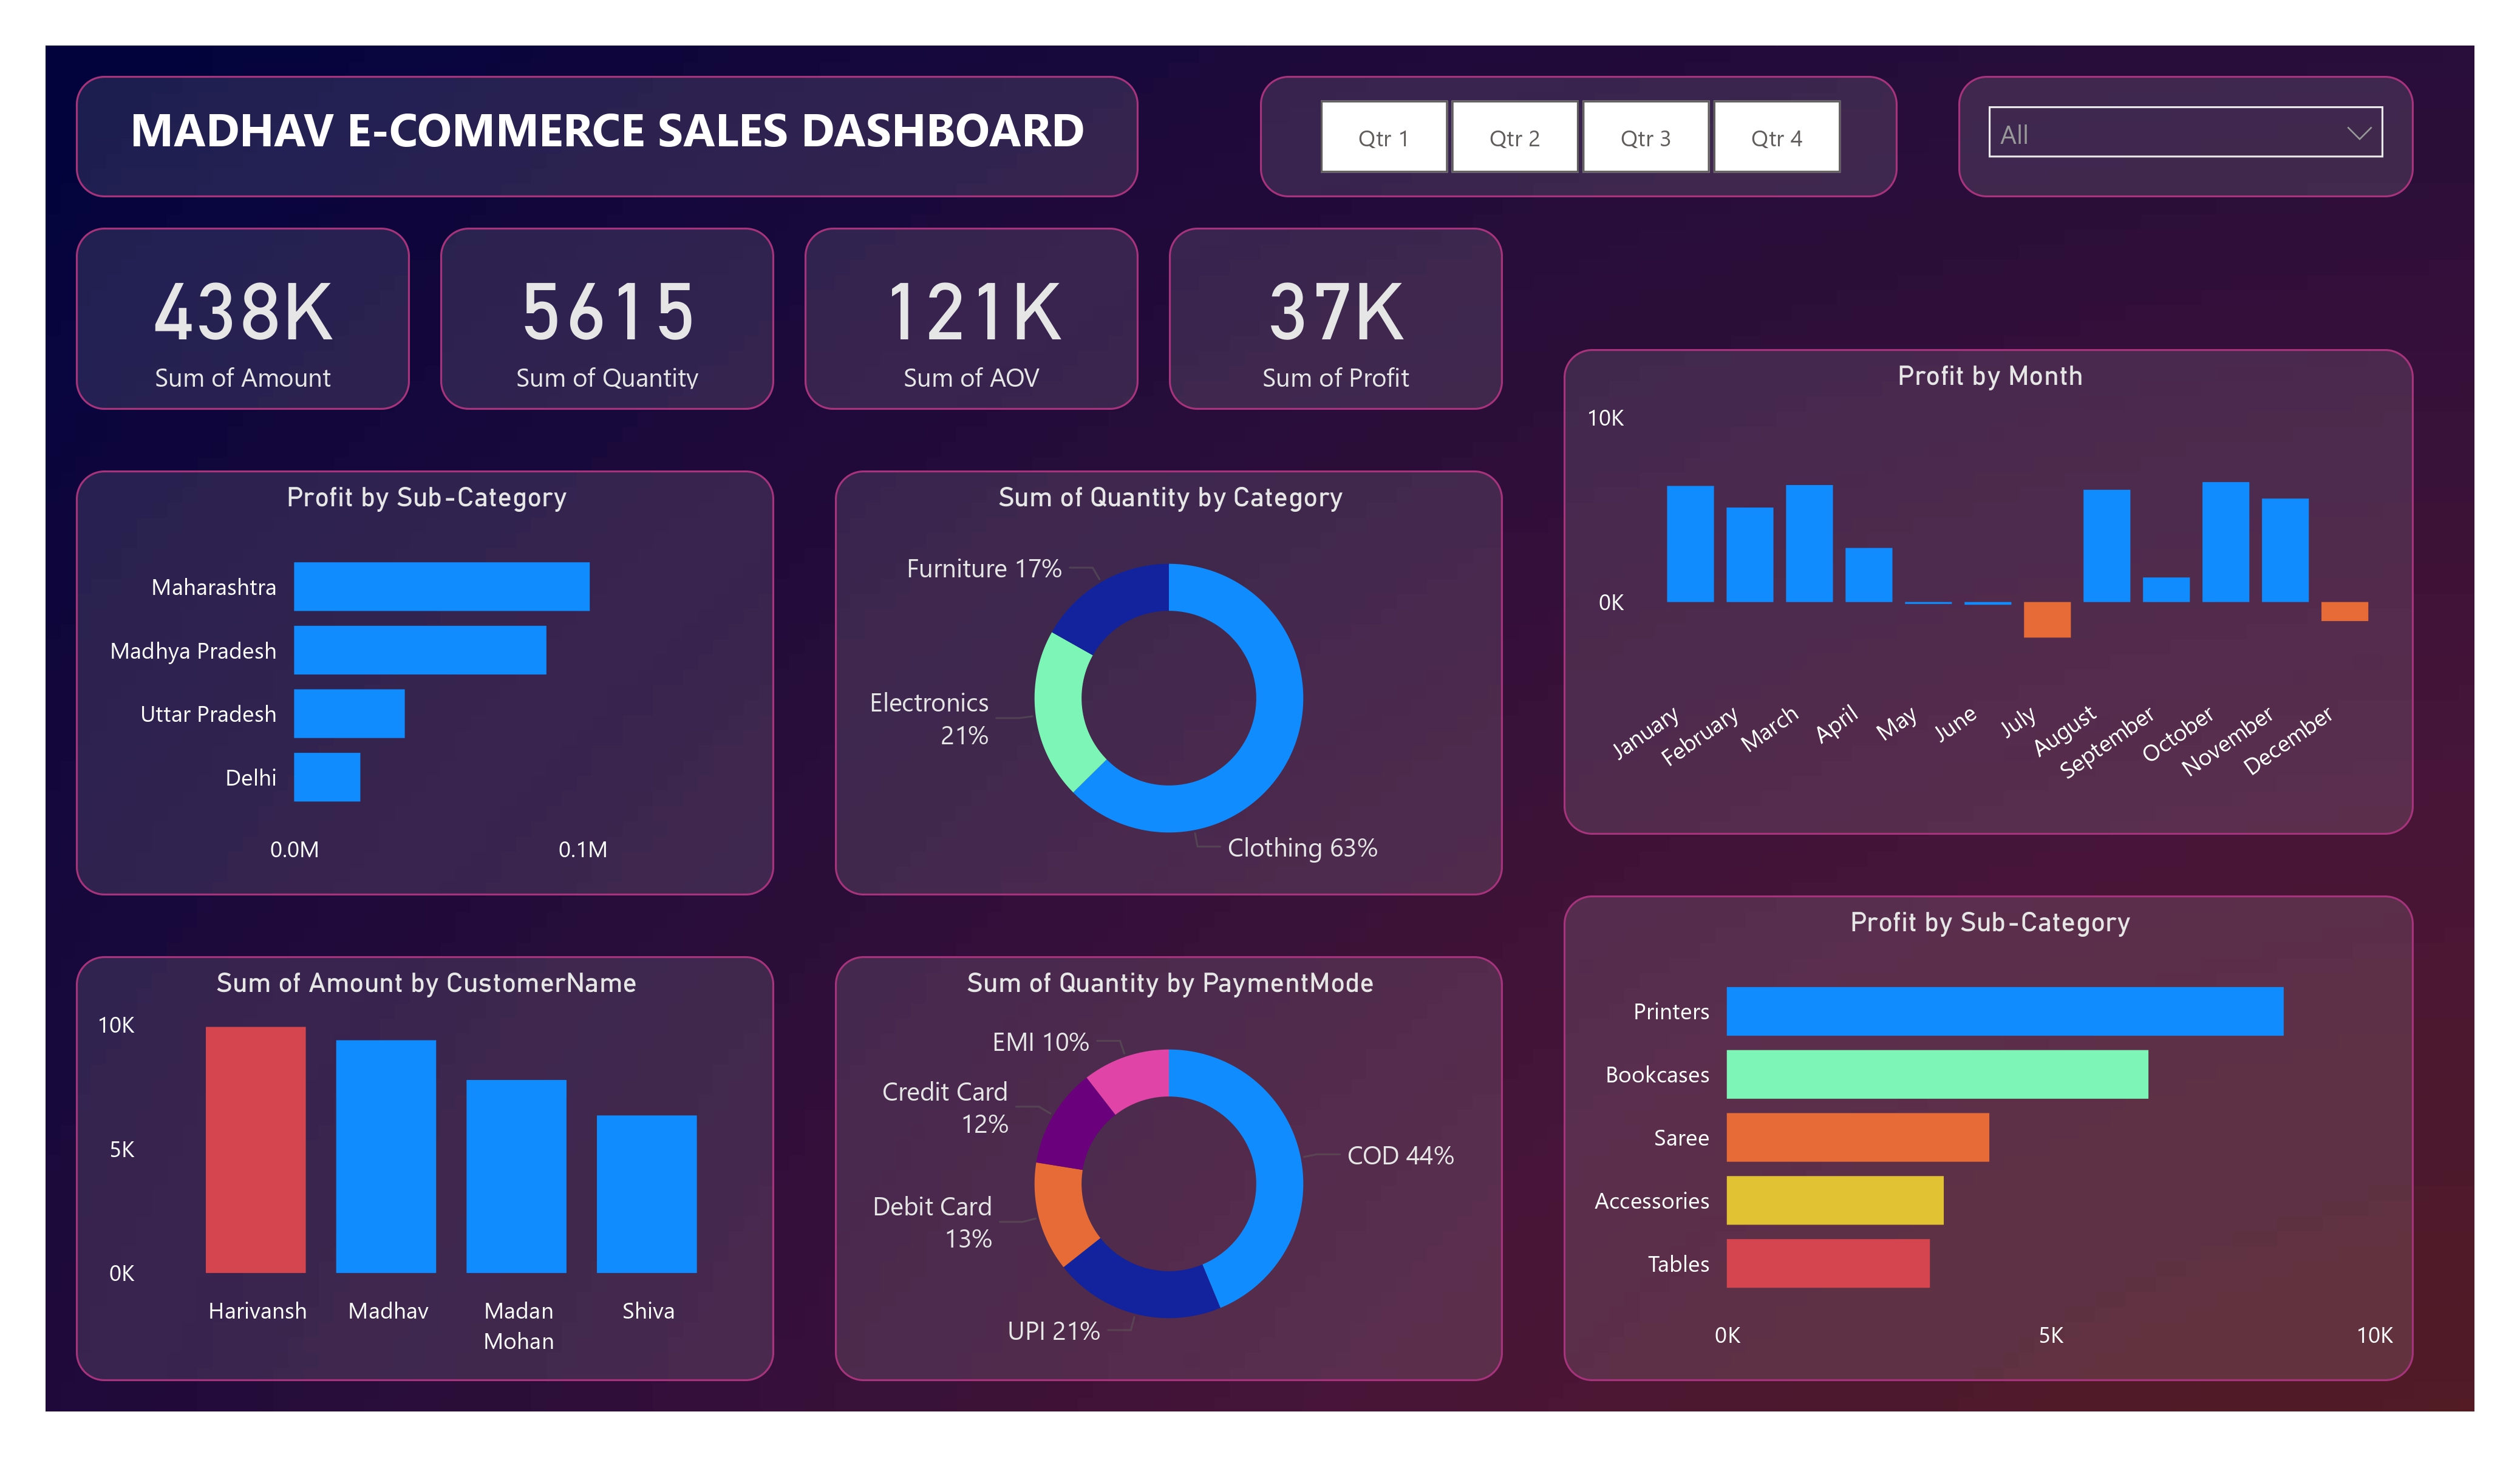

The page's visual inventory and layout, read from the dashboard file:
{"tool":"powerbi","page":{"name":"Page 1","canvas":[1280,720],"ordinal":0},"visuals":[{"type":"textbox","box":[16,16,560,64],"z":0},{"type":"columnChart","title":" Profit by Month","fields":{"Category":["Orders.Order Date.Variation.Date Hierarchy.Month"],"Y":["Details.Profit"]},"box":[800,160,448,256],"z":1000},{"type":"barChart","title":" Profit by Sub-Category","fields":{"Category":["Details.Sub-Category"],"Y":["Details.Profit"]},"box":[800,448,448,256],"z":2000},{"type":"donutChart","fields":{"Category":["Details.Category"],"Y":["Details.Quantity"]},"box":[416,224,352,224],"z":3000},{"type":"donutChart","fields":{"Y":["Details.Quantity"],"Category":["Details.PaymentMode"]},"box":[416,480,352,224],"z":4000},{"type":"card","fields":{"Values":["Details.Amount"]},"box":[16,96,176,96],"z":5000},{"type":"card","fields":{"Values":["Details.Profit"]},"box":[592,96,176,96],"z":6000},{"type":"card","fields":{"Values":["Details.AOV"]},"box":[400,96,176,96],"z":7000},{"type":"card","fields":{"Values":["Details.Quantity"]},"box":[208,96,176,96],"z":8000},{"type":"barChart","title":" Profit by Sub-Category","fields":{"Category":["Orders.State"],"Y":["Details.Amount"]},"box":[16,224,368,224],"z":9000},{"type":"columnChart","fields":{"Category":["Orders.CustomerName"],"Y":["Details.Amount"]},"box":[16,480,368,224],"z":10000},{"type":"slicer","fields":{"Values":["Orders.Order Date.Variation.Date Hierarchy.Quarter"]},"box":[640,16,336,64],"z":11000},{"type":"slicer","fields":{"Values":["Orders.State"]},"box":[1008,16,240,64],"z":12000}]}

Visuals, with their boxes on the page's 1280x720 design canvas (x1, y1, x2, y2). These are canvas units, not pixel positions in the 2520x1457 screenshot, which may show the page scaled, cropped or inside an application window:
textbox: l=16, t=16, r=576, b=80
" Profit by Month" columnChart: l=800, t=160, r=1248, b=416
" Profit by Sub-Category" barChart: l=800, t=448, r=1248, b=704
donutChart - Details.Category x Details.Quantity: l=416, t=224, r=768, b=448
donutChart - Details.Quantity x Details.PaymentMode: l=416, t=480, r=768, b=704
card - Details.Amount: l=16, t=96, r=192, b=192
card - Details.Profit: l=592, t=96, r=768, b=192
card - Details.AOV: l=400, t=96, r=576, b=192
card - Details.Quantity: l=208, t=96, r=384, b=192
" Profit by Sub-Category" barChart: l=16, t=224, r=384, b=448
columnChart - Orders.CustomerName x Details.Amount: l=16, t=480, r=384, b=704
slicer - Orders.Order Date.Variation.Date Hierarchy.Quarter: l=640, t=16, r=976, b=80
slicer - Orders.State: l=1008, t=16, r=1248, b=80
